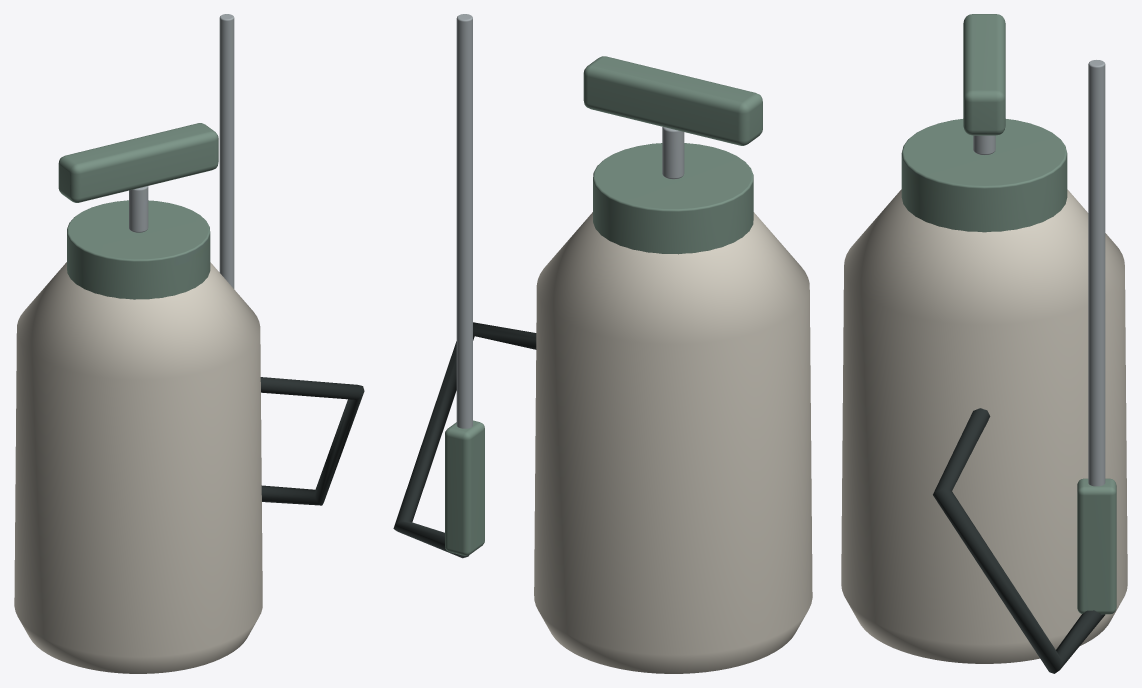
File: sprayer.glb
The picture shows the model from 3 angles, left to right: view 1: azimuth 30°, elevation 25°; view 2: azimuth 150°, elevation 25°; view 3: azimuth 270°, elevation 25°; orthographic projection. The views are drawn at different scales.
Visible parts, largest first — view 1: Pressure tank body, Pump cap, Docked spray wand, Sprayer side hose; view 2: Pressure tank body, Pump cap, Docked spray wand, Sprayer side hose; view 3: Pressure tank body, Pump cap, Docked spray wand, Sprayer side hose.
Boxes of the visible parts, left/top/right/bottom form: Pressure tank body: left=14, top=262, right=262, bottom=673; Pump cap: left=58, top=123, right=218, bottom=299; Docked spray wand: left=129, top=14, right=234, bottom=288; Sprayer side hose: left=260, top=377, right=364, bottom=505; Pressure tank body: left=534, top=212, right=812, bottom=673; Pump cap: left=445, top=56, right=762, bottom=555; Docked spray wand: left=456, top=14, right=684, bottom=428; Sprayer side hose: left=393, top=322, right=536, bottom=558; Pressure tank body: left=841, top=189, right=1127, bottom=663; Pump cap: left=901, top=14, right=1116, bottom=614; Docked spray wand: left=973, top=60, right=1105, bottom=486; Sprayer side hose: left=933, top=408, right=1105, bottom=673.
Size of the model in its own units: 0.3076 by 0.49 by 0.204.
Materials: 4 (4 with a texture image).
